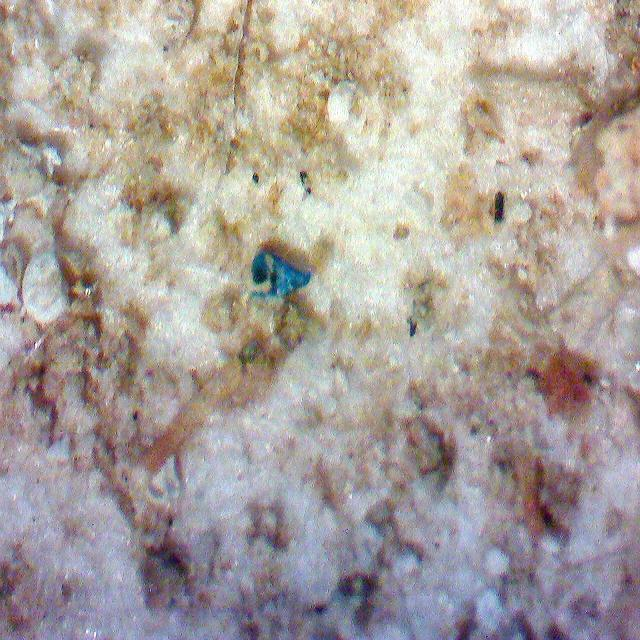microplastic: (250, 245, 315, 301)
